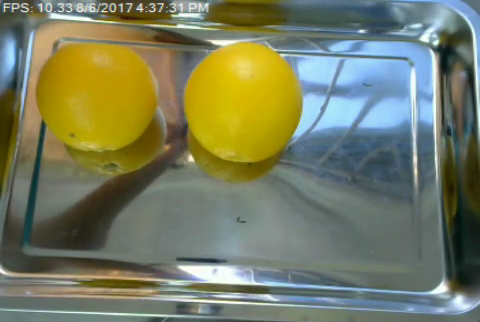Orange: (181, 41, 302, 160), (36, 41, 159, 151)
